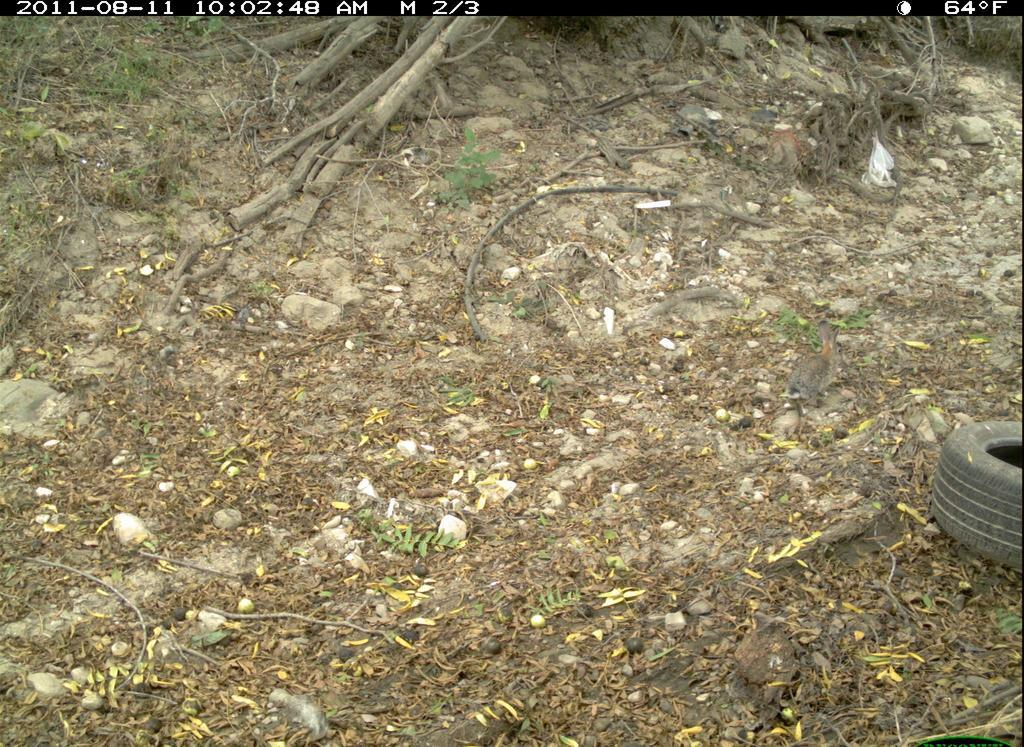rabbit: (771, 309, 863, 417)
